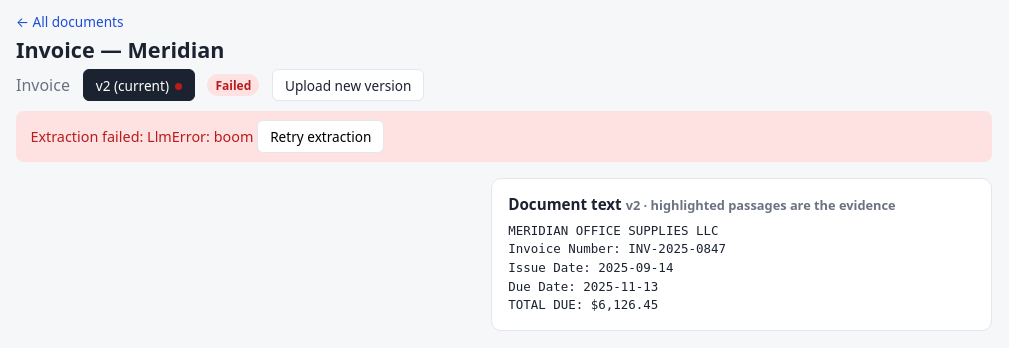
Scenario: retry is one click, one run › detail: Retry is disabled while the request is in flight; a double click sends one POST; the button goes once queued
Later steps or results of the test are not shown.
Double-click the button "Retry extraction" at [321, 136], box [257, 120, 384, 153]
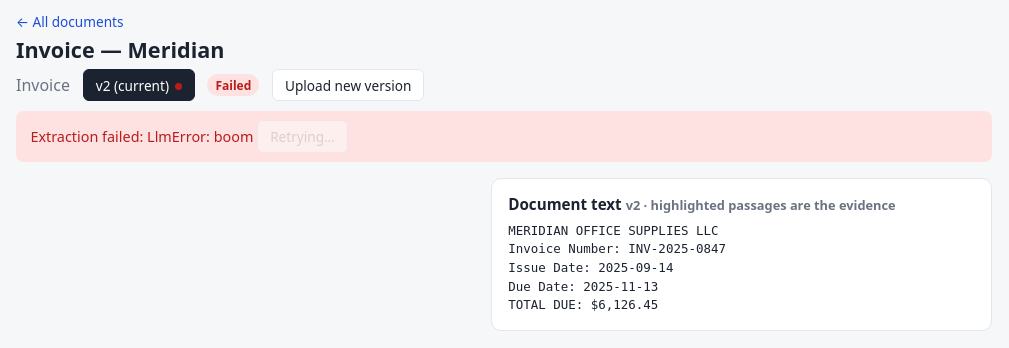
Click the button named "Retry extraction" at [302, 136], box [257, 120, 348, 153]
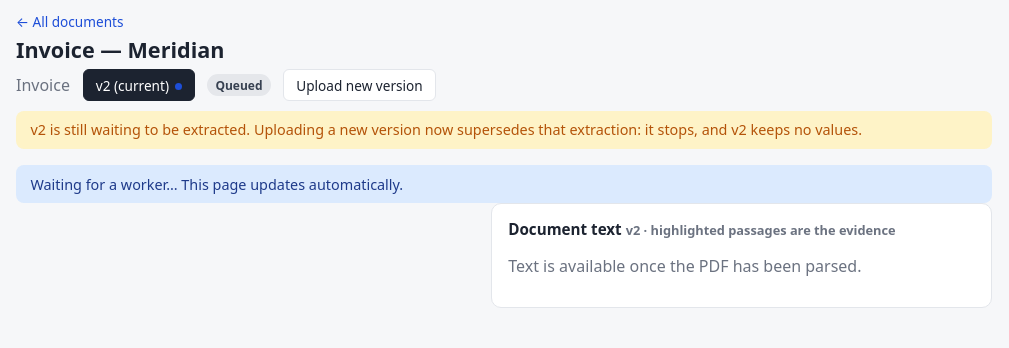
Expected: the button "Retry" is gone
Expected: the text "Waiting for a worker… This page updates automatically." is shown, [16, 165, 992, 203]
